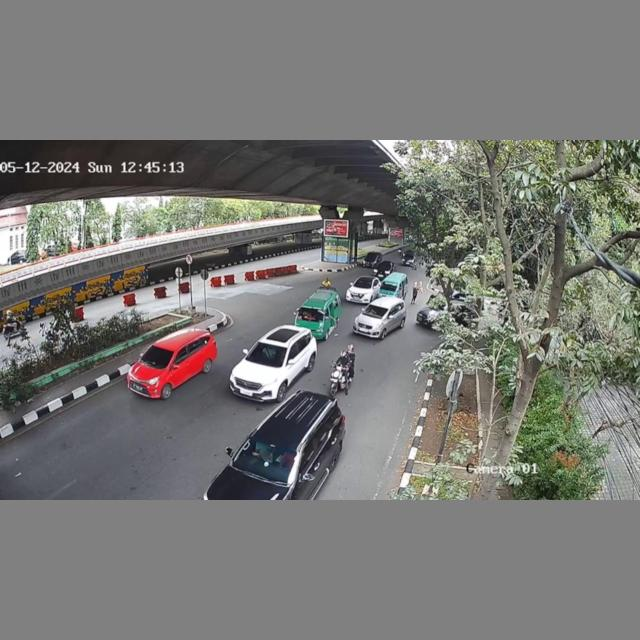windshield: (232, 437, 299, 485), (245, 341, 287, 368), (139, 343, 174, 370), (298, 305, 324, 324), (362, 303, 389, 320)
